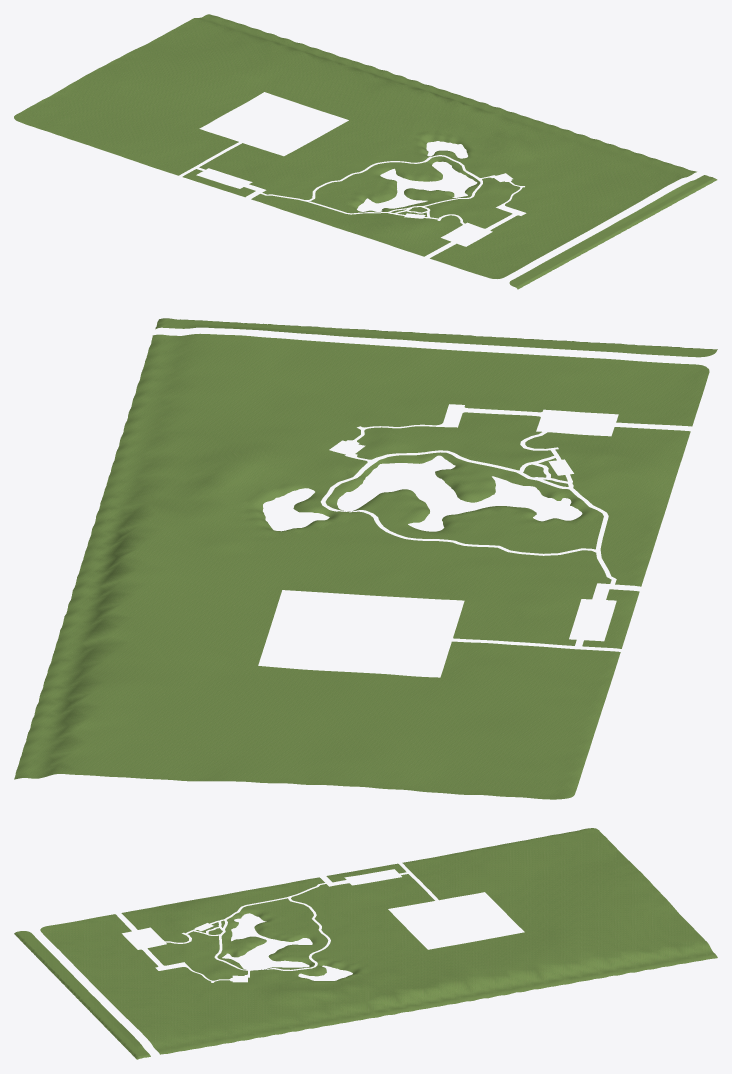
The model's file is landscape3.glb.
3 renders of one model, top to bottom at view 1: azimuth 30°, elevation 25°; view 2: azimuth 150°, elevation 25°; view 3: azimuth 270°, elevation 25°, orthographic. The views are drawn at different scales.
Visible parts, largest first — view 1: landscape.001; view 2: landscape.001; view 3: landscape.001.
Part boxes in pixels (bbox=[...]): landscape.001: bbox=[14, 14, 717, 289]; landscape.001: bbox=[14, 318, 717, 799]; landscape.001: bbox=[14, 828, 717, 1059].
Bounding box in the file's own units: 2249 × 37.87 × 2965.
1 material, 1 textured.
